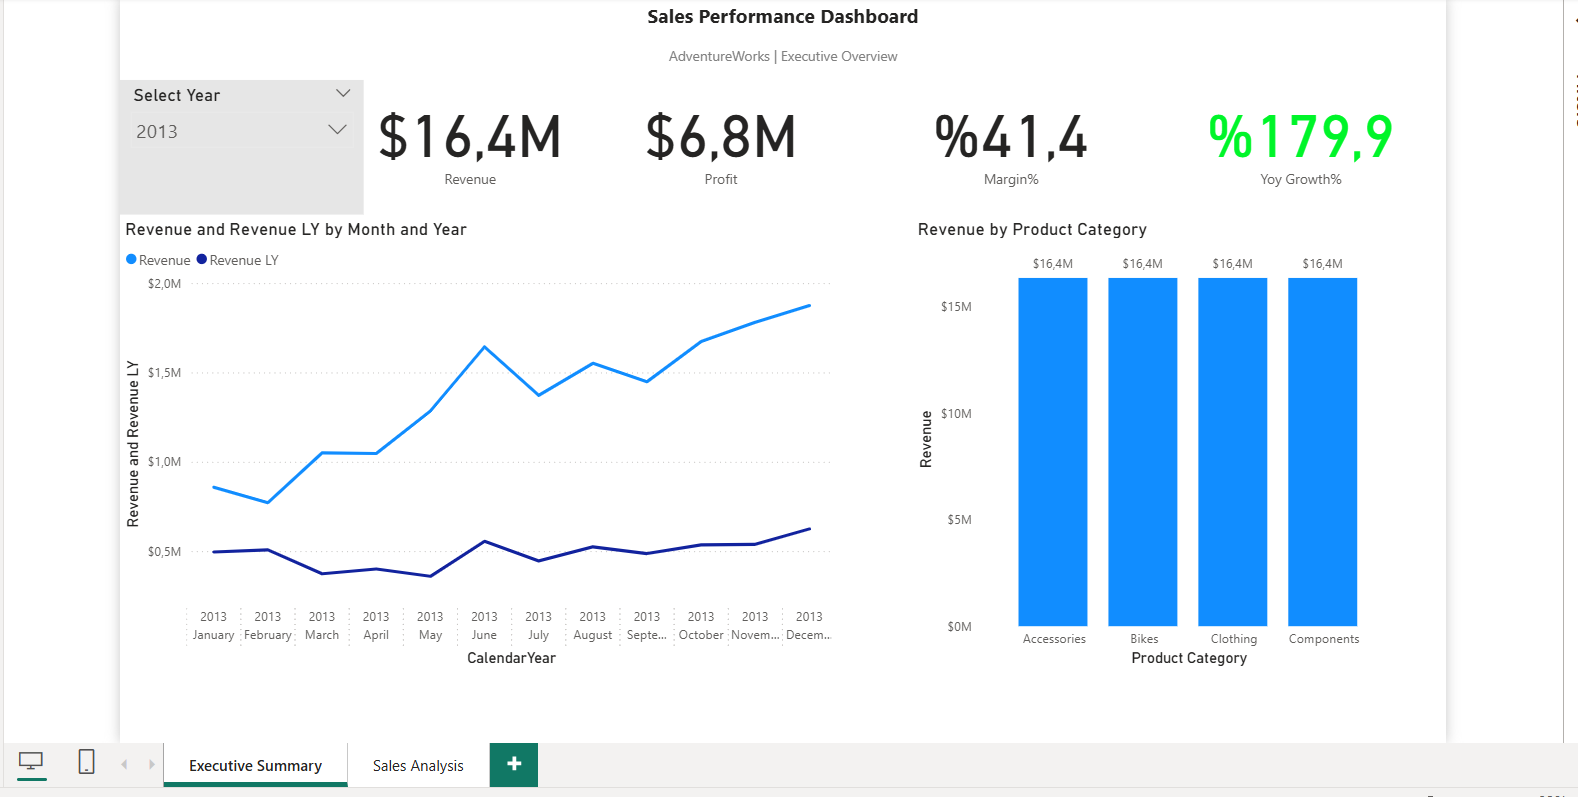

This screenshot's page, from the dashboard's own definition file:
{"tool":"powerbi","page":{"name":"Executive Summary","canvas":[1280,720],"ordinal":0},"visuals":[{"type":"card","fields":{"Values":["_Measure.Revenue"]},"box":[234.7,79.1,205.8,112.5],"z":0},{"type":"card","fields":{"Values":["_Measure.Profit"]},"box":[440.6,79.1,279.9,112.5],"z":1},{"type":"card","fields":{"Values":["_Measure.Margin%"]},"box":[720.5,79.1,279.9,112.5],"z":2},{"type":"card","fields":{"Values":["_Measure.Yoy Growth%"]},"box":[1000.4,79.1,279.9,112.5],"z":3},{"type":"slicer","fields":{"Values":["DimDate.CalendarYear"]},"box":[0,79.6,235.3,130.3],"z":4},{"type":"lineChart","title":"Revenue and Revenue LY by Month and Year","fields":{"Category":["DimDate.EnglishMonthName","DimDate.CalendarYear"],"Y":["_Measure.Revenue","_Measure.Revenue LY"]},"box":[0,214.1,691.6,437.7],"z":5},{"type":"clusteredColumnChart","title":"Revenue by Product Category","fields":{"Y":["_Measure.Revenue"],"Category":["DimProductCategory.EnglishProductCategoryName"]},"box":[764.3,214.1,472,437.7],"z":6},{"type":"textbox","box":[0,0,1280,79.6],"z":7}]}

Visuals, with their boxes on the page's 1280x720 design canvas (x1, y1, x2, y2). These are canvas units, not pixel positions in the 1578x797 screenshot, which may show the page scaled, cropped or inside an application window:
card - _Measure.Revenue: bbox(235, 79, 440, 192)
card - _Measure.Profit: bbox(441, 79, 720, 192)
card - _Measure.Margin%: bbox(720, 79, 1000, 192)
card - _Measure.Yoy Growth%: bbox(1000, 79, 1280, 192)
slicer - DimDate.CalendarYear: bbox(0, 80, 235, 210)
"Revenue and Revenue LY by Month and Year" lineChart: bbox(0, 214, 692, 652)
"Revenue by Product Category" clusteredColumnChart: bbox(764, 214, 1236, 652)
textbox: bbox(0, 0, 1280, 80)
